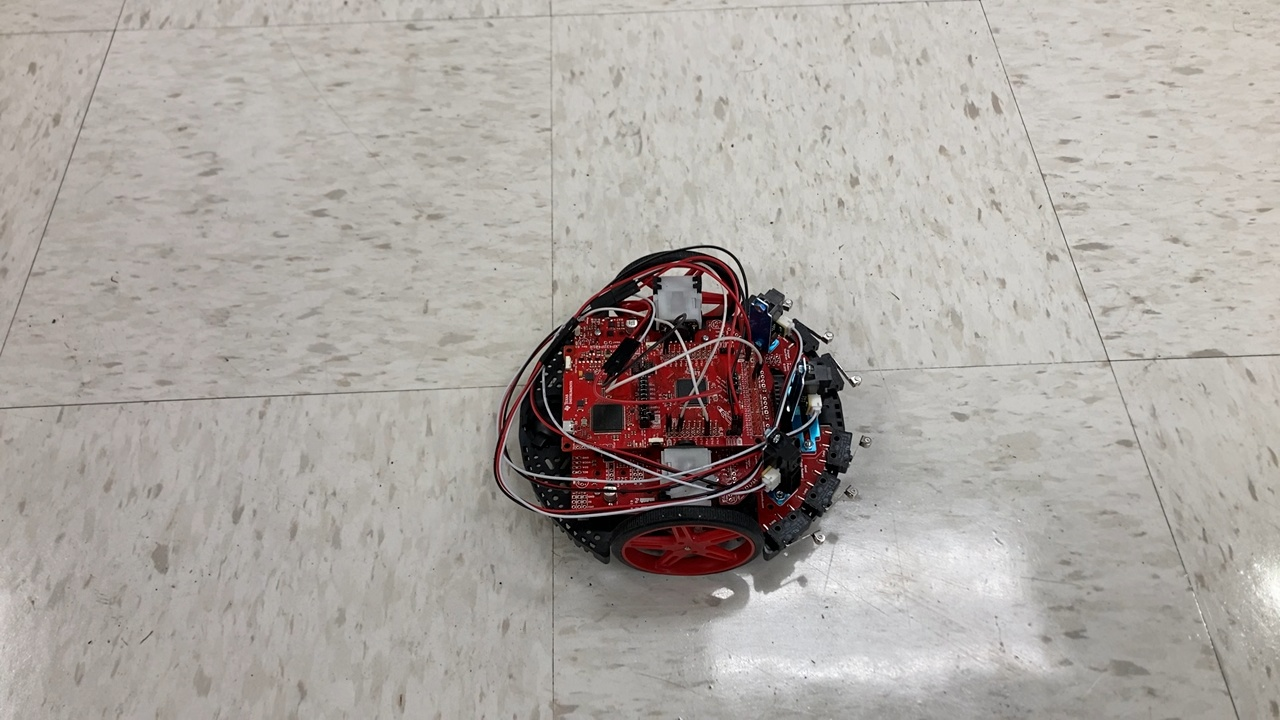robot: (487, 241, 882, 582)
